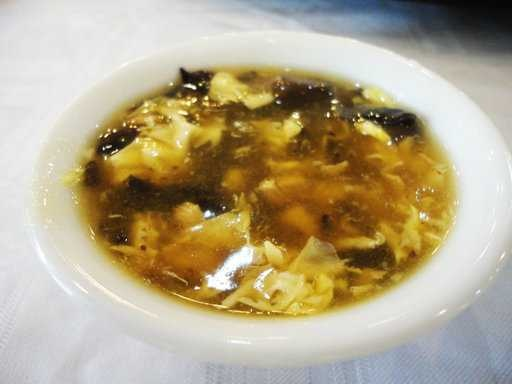soup: (45, 31, 485, 325)
